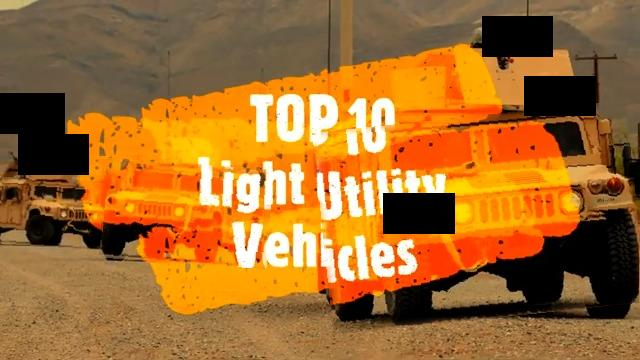MIL_HMMWV: (317, 107, 640, 326), (100, 161, 272, 266), (0, 177, 104, 248)
